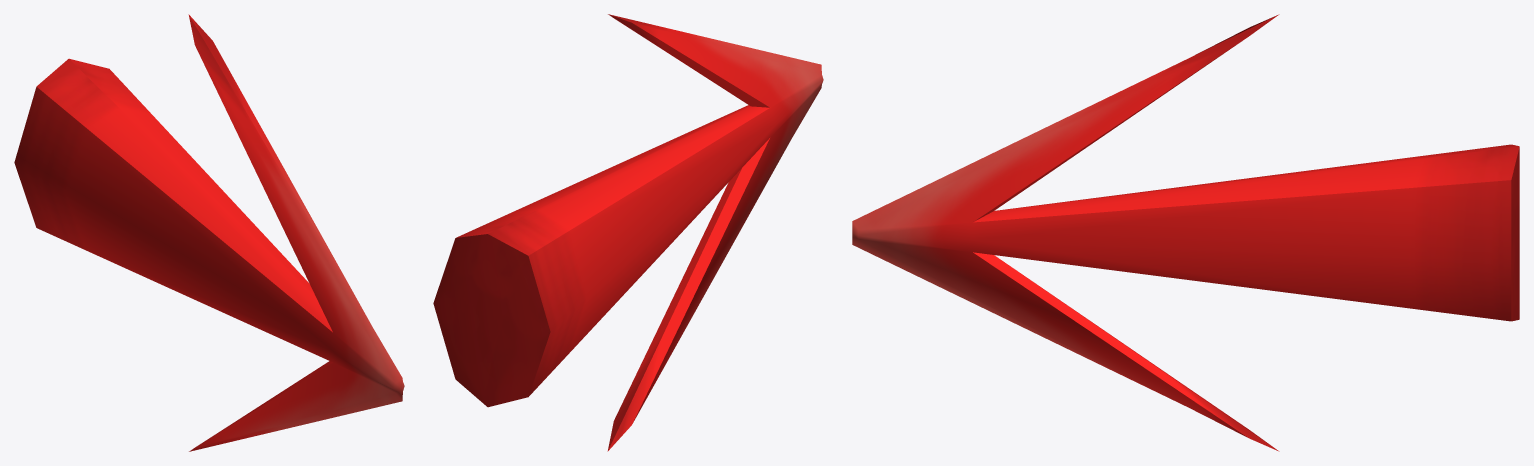
File: Arrow.fbx
The picture shows the model from 3 angles, left to right: view 1: azimuth 30°, elevation 25°; view 2: azimuth 150°, elevation 25°; view 3: azimuth 270°, elevation 25°; orthographic projection.
Visible parts, largest first — view 1: Cube; view 2: Cube; view 3: Cube.
Boxes of the visible parts, left/top/right/bottom form: Cube: left=14, top=14, right=404, bottom=451; Cube: left=433, top=14, right=823, bottom=451; Cube: left=852, top=14, right=1519, bottom=451.
Bounding box in the file's own units: 84.86 × 303 × 419.
Materials: 1 (1 with a texture image).
